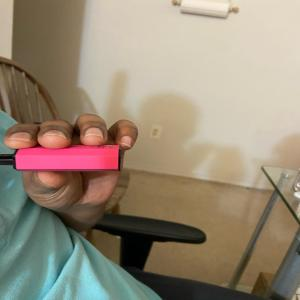Blume-E-Ciggirate: (2, 142, 126, 175)
